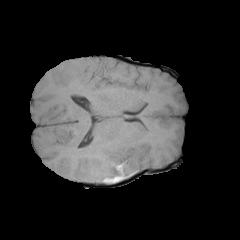glioma: (84, 146, 145, 183)
